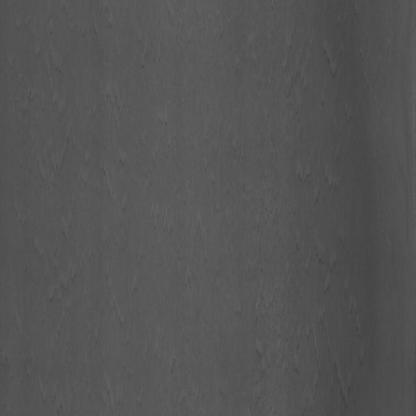silk_spot: (211, 38, 364, 368), (85, 104, 145, 246)
